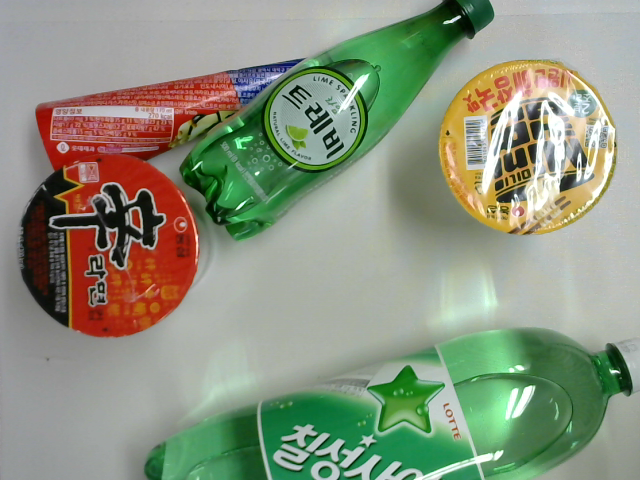Chilseong_Cider_1.5L: (143, 326, 639, 480)
Hejangmini: (440, 60, 618, 256)
Sinramen_small: (16, 157, 212, 337)
Treviraim_500ml: (180, 1, 495, 240)
World_Cone_Banila: (36, 57, 313, 173)
